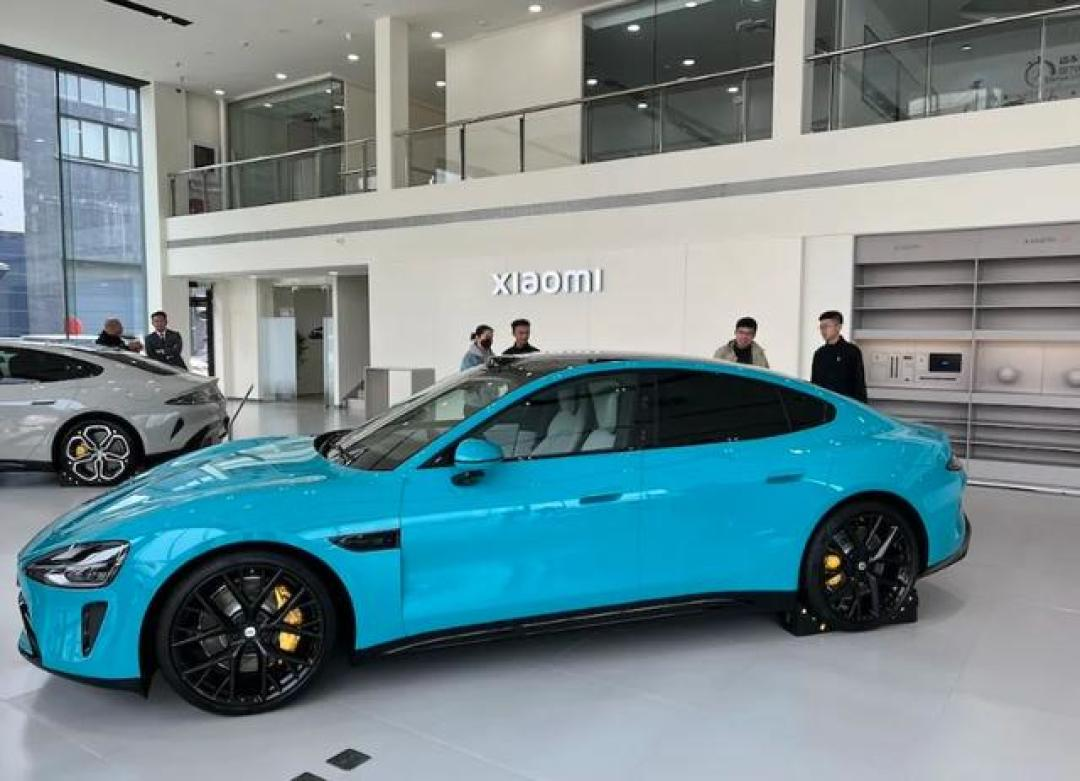su7: (15, 349, 976, 694), (0, 338, 234, 471)
